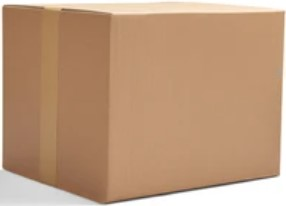stock: (3, 4, 283, 201)
